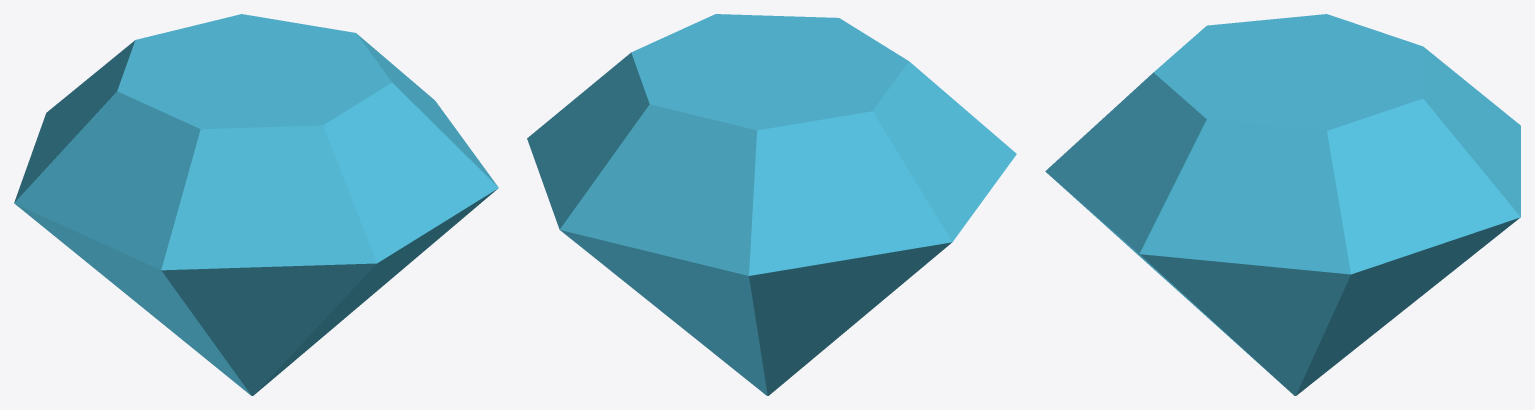
File: Sapphire.fbx
3 views of the same model, side by side, from view 1: azimuth 30°, elevation 25°; view 2: azimuth 150°, elevation 25°; view 3: azimuth 270°, elevation 25° (orthographic).
Visible parts, largest first — view 1: Blue Gem; view 2: Blue Gem; view 3: Blue Gem.
Boxes of the visible parts, x1,y1,x2,y2 form: Blue Gem: (14, 14, 498, 395); Blue Gem: (527, 14, 1016, 395); Blue Gem: (1045, 14, 1520, 395).
Size of the model in its own units: 137 by 99.92 by 133.
